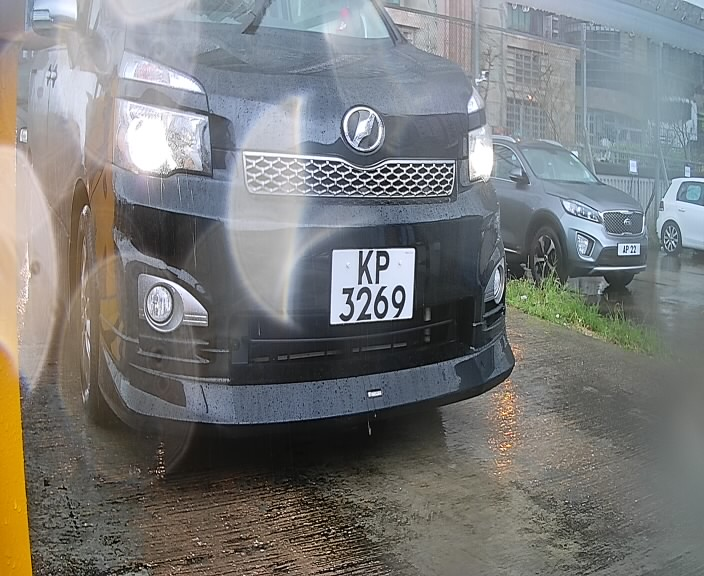Car: (32, 2, 523, 463)
License Plate: (321, 232, 428, 338)
